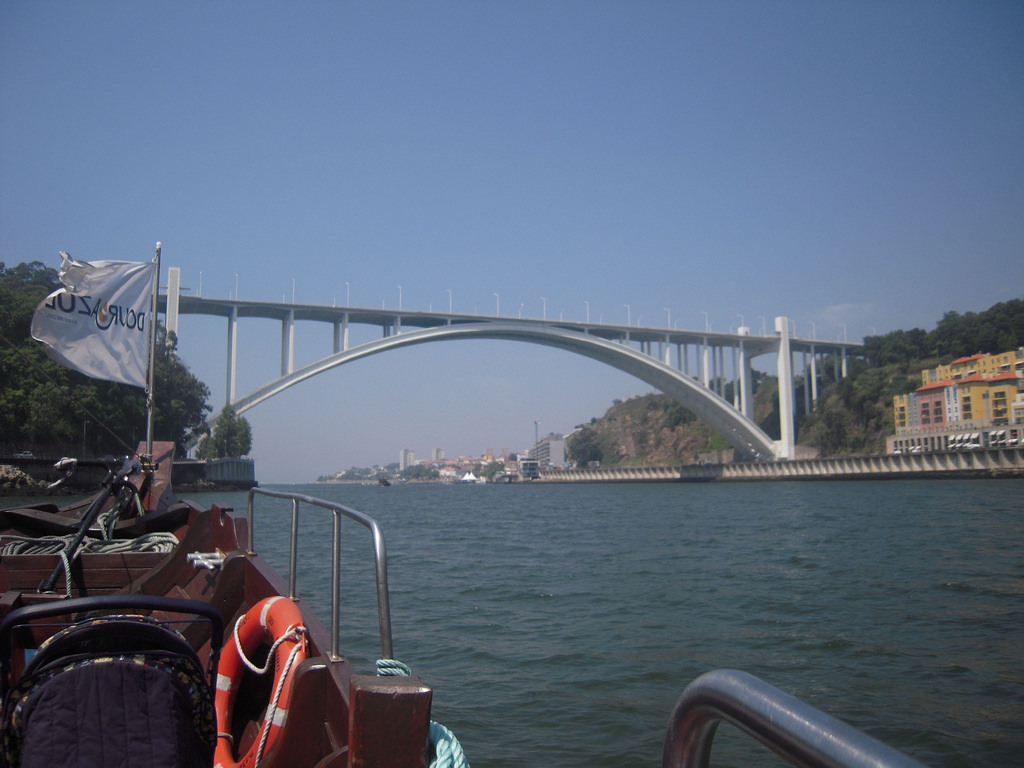arrabida: (160, 264, 864, 462)
